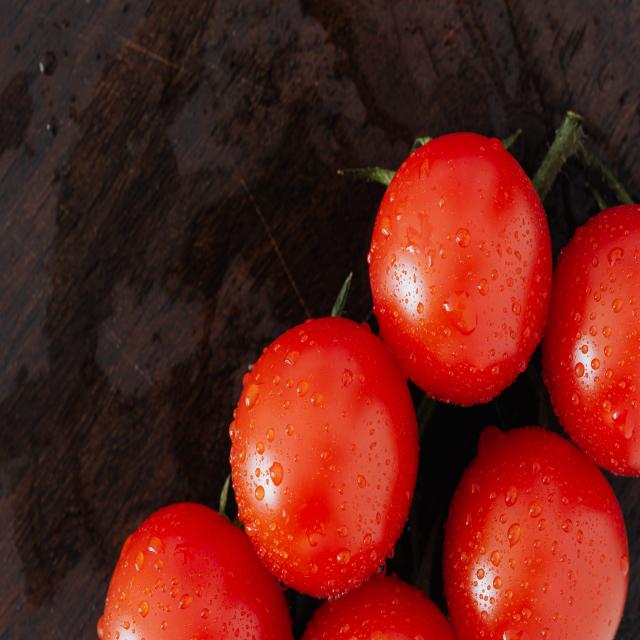Tomato: (380, 141, 552, 399)
